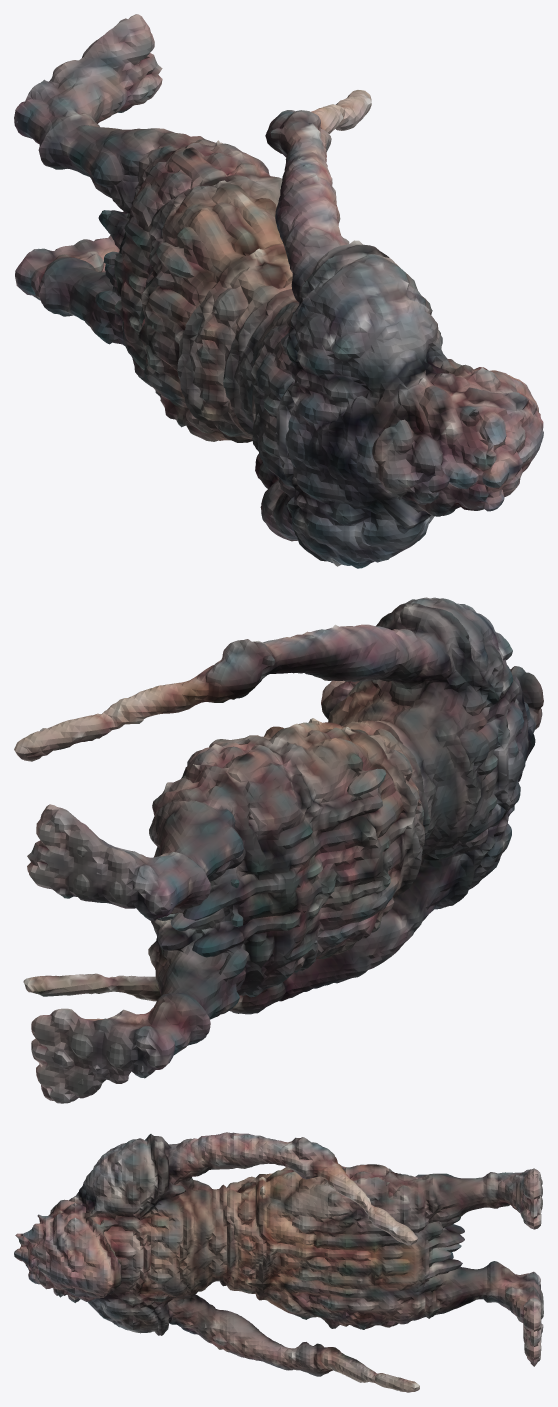
Rendered from lizard-warrior-triposr.glb.
The picture shows the model from 3 angles, top to bottom: view 1: azimuth 30°, elevation 25°; view 2: azimuth 150°, elevation 25°; view 3: azimuth 270°, elevation 25°; orthographic projection. The views are drawn at different scales.
Parts seen in each view (by area): view 1: world; view 2: world; view 3: world.
Part boxes in pixels (<box>): world: <box>14,14,543,568</box>; world: <box>14,597,543,1103</box>; world: <box>14,1132,543,1392</box>.
Size of the model in its own units: 0.4217 by 0.4962 by 1.
